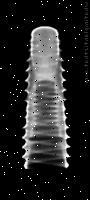Cowellmedi: (16, 23, 71, 170)
